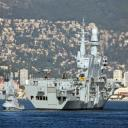Portanaves: (25, 16, 125, 114)
